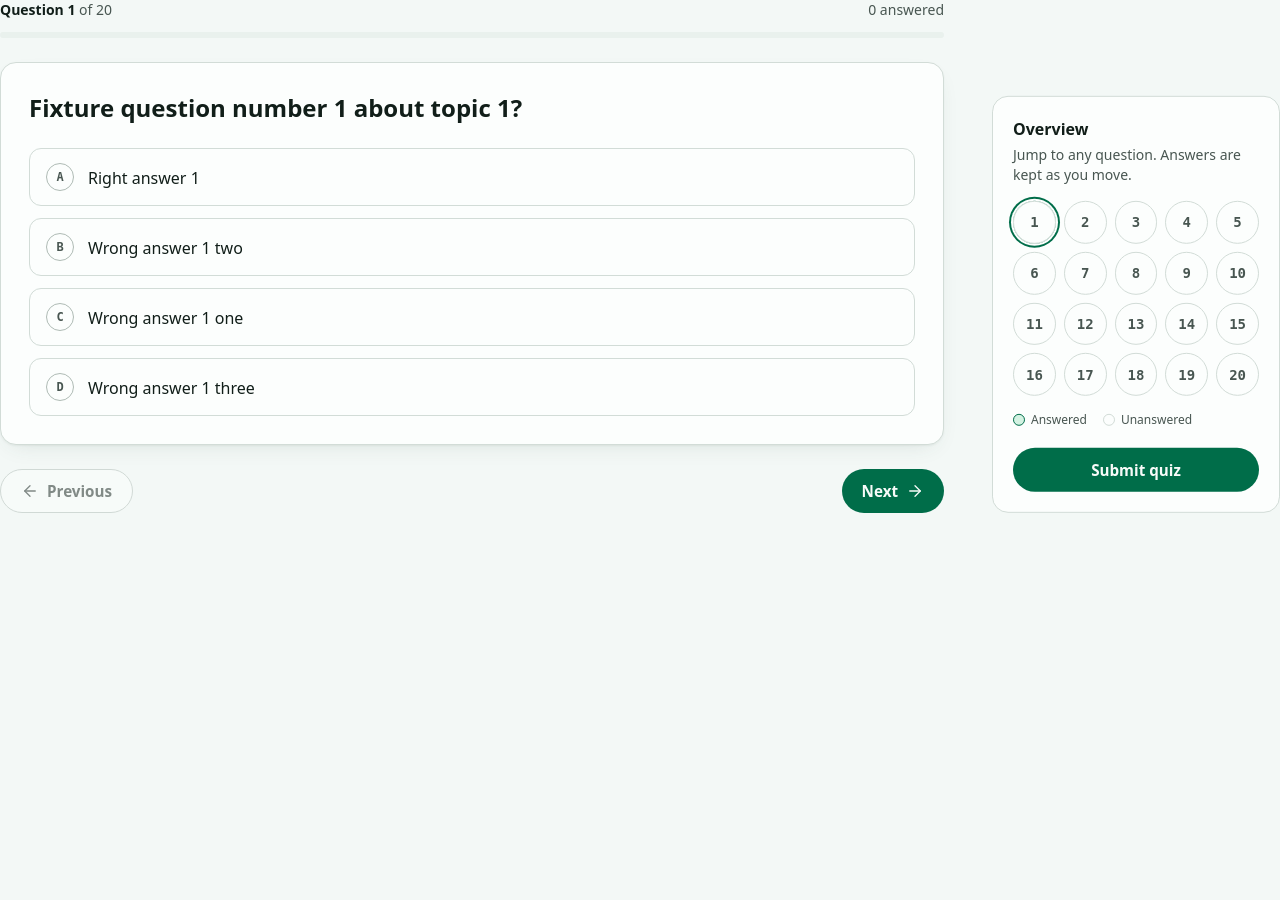
Test: QuizRunner › asks for confirmation when questions are unanswered
This screenshot has width=1280, height=900.
Click the radio button labelled "Right answer 1": (144, 178) [29,148,915,206]
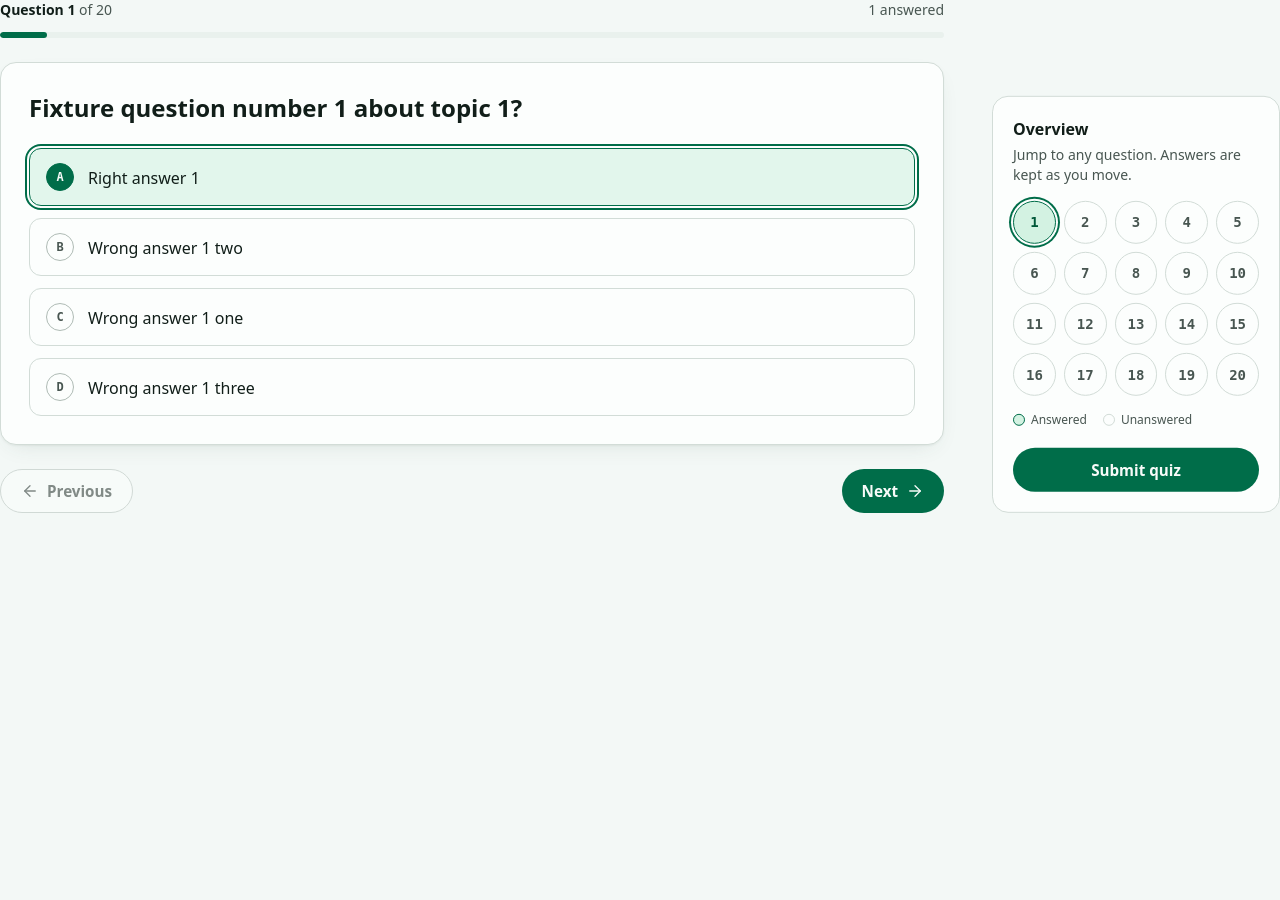
Click the button "Submit quiz": (1136, 470) [1013,448,1259,492]
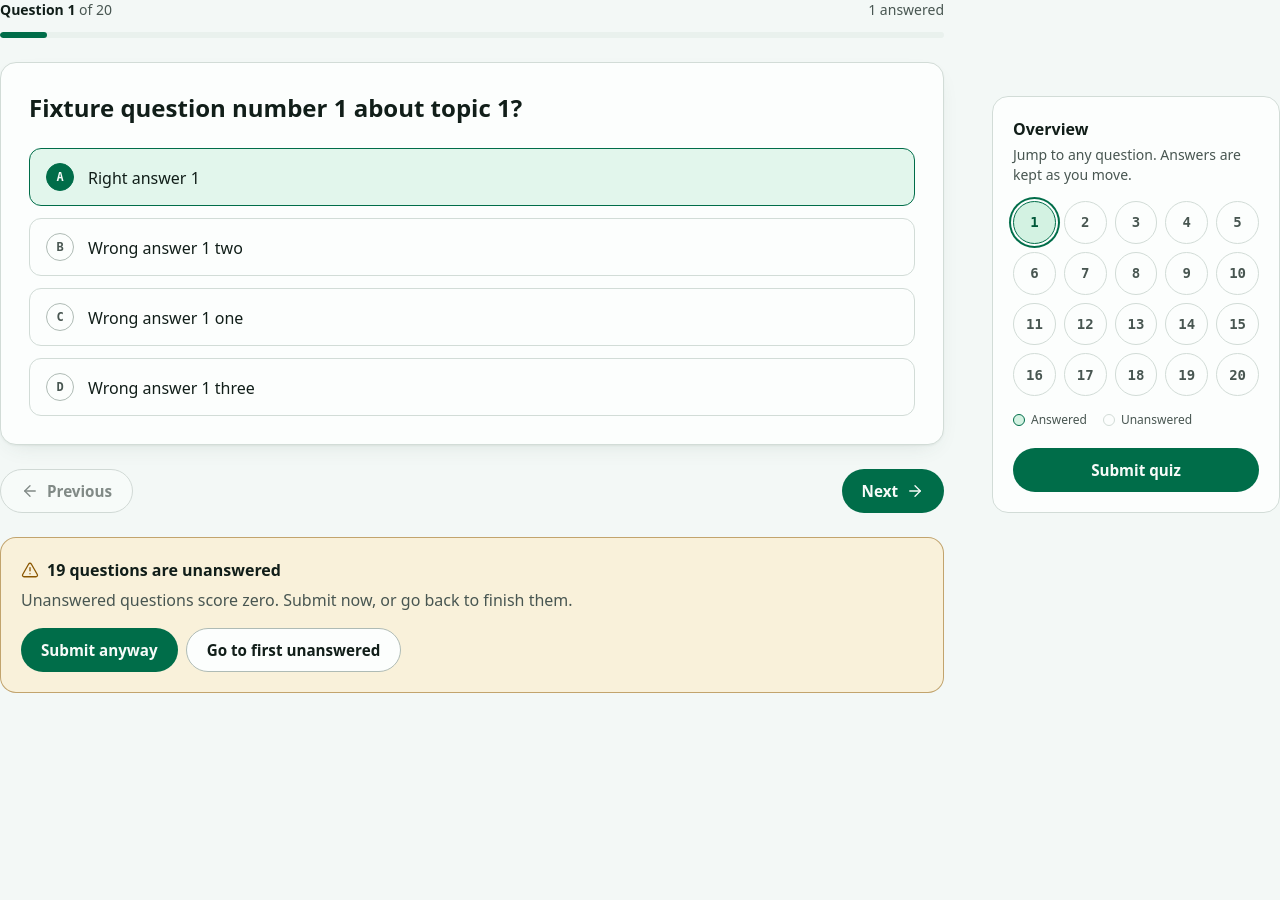
Expected: the text "19 questions are unanswered" is shown, [21,559,281,581]
Click the button "Go to first unanswered": (294, 650) [186,628,401,672]
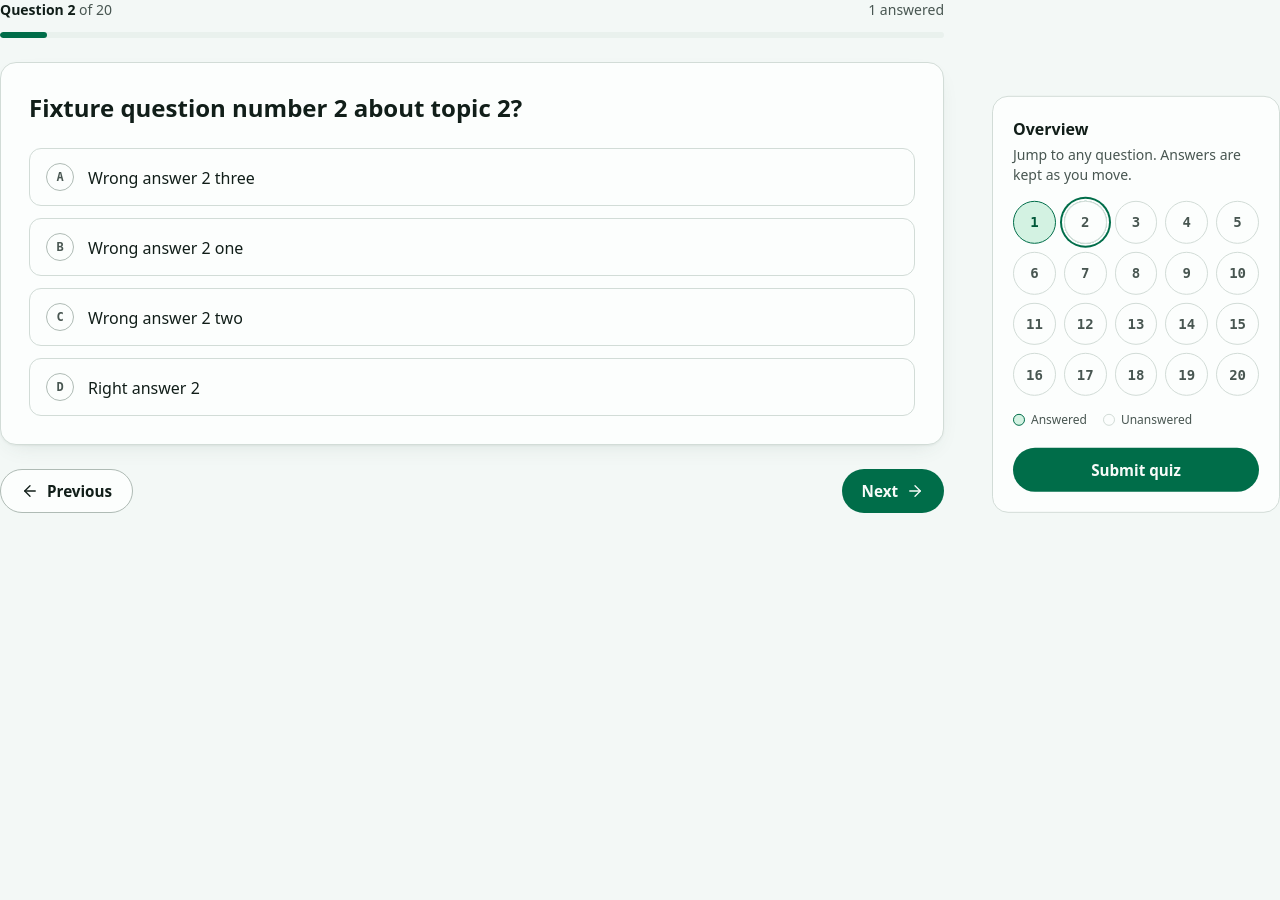
Expected: the dialog is gone
